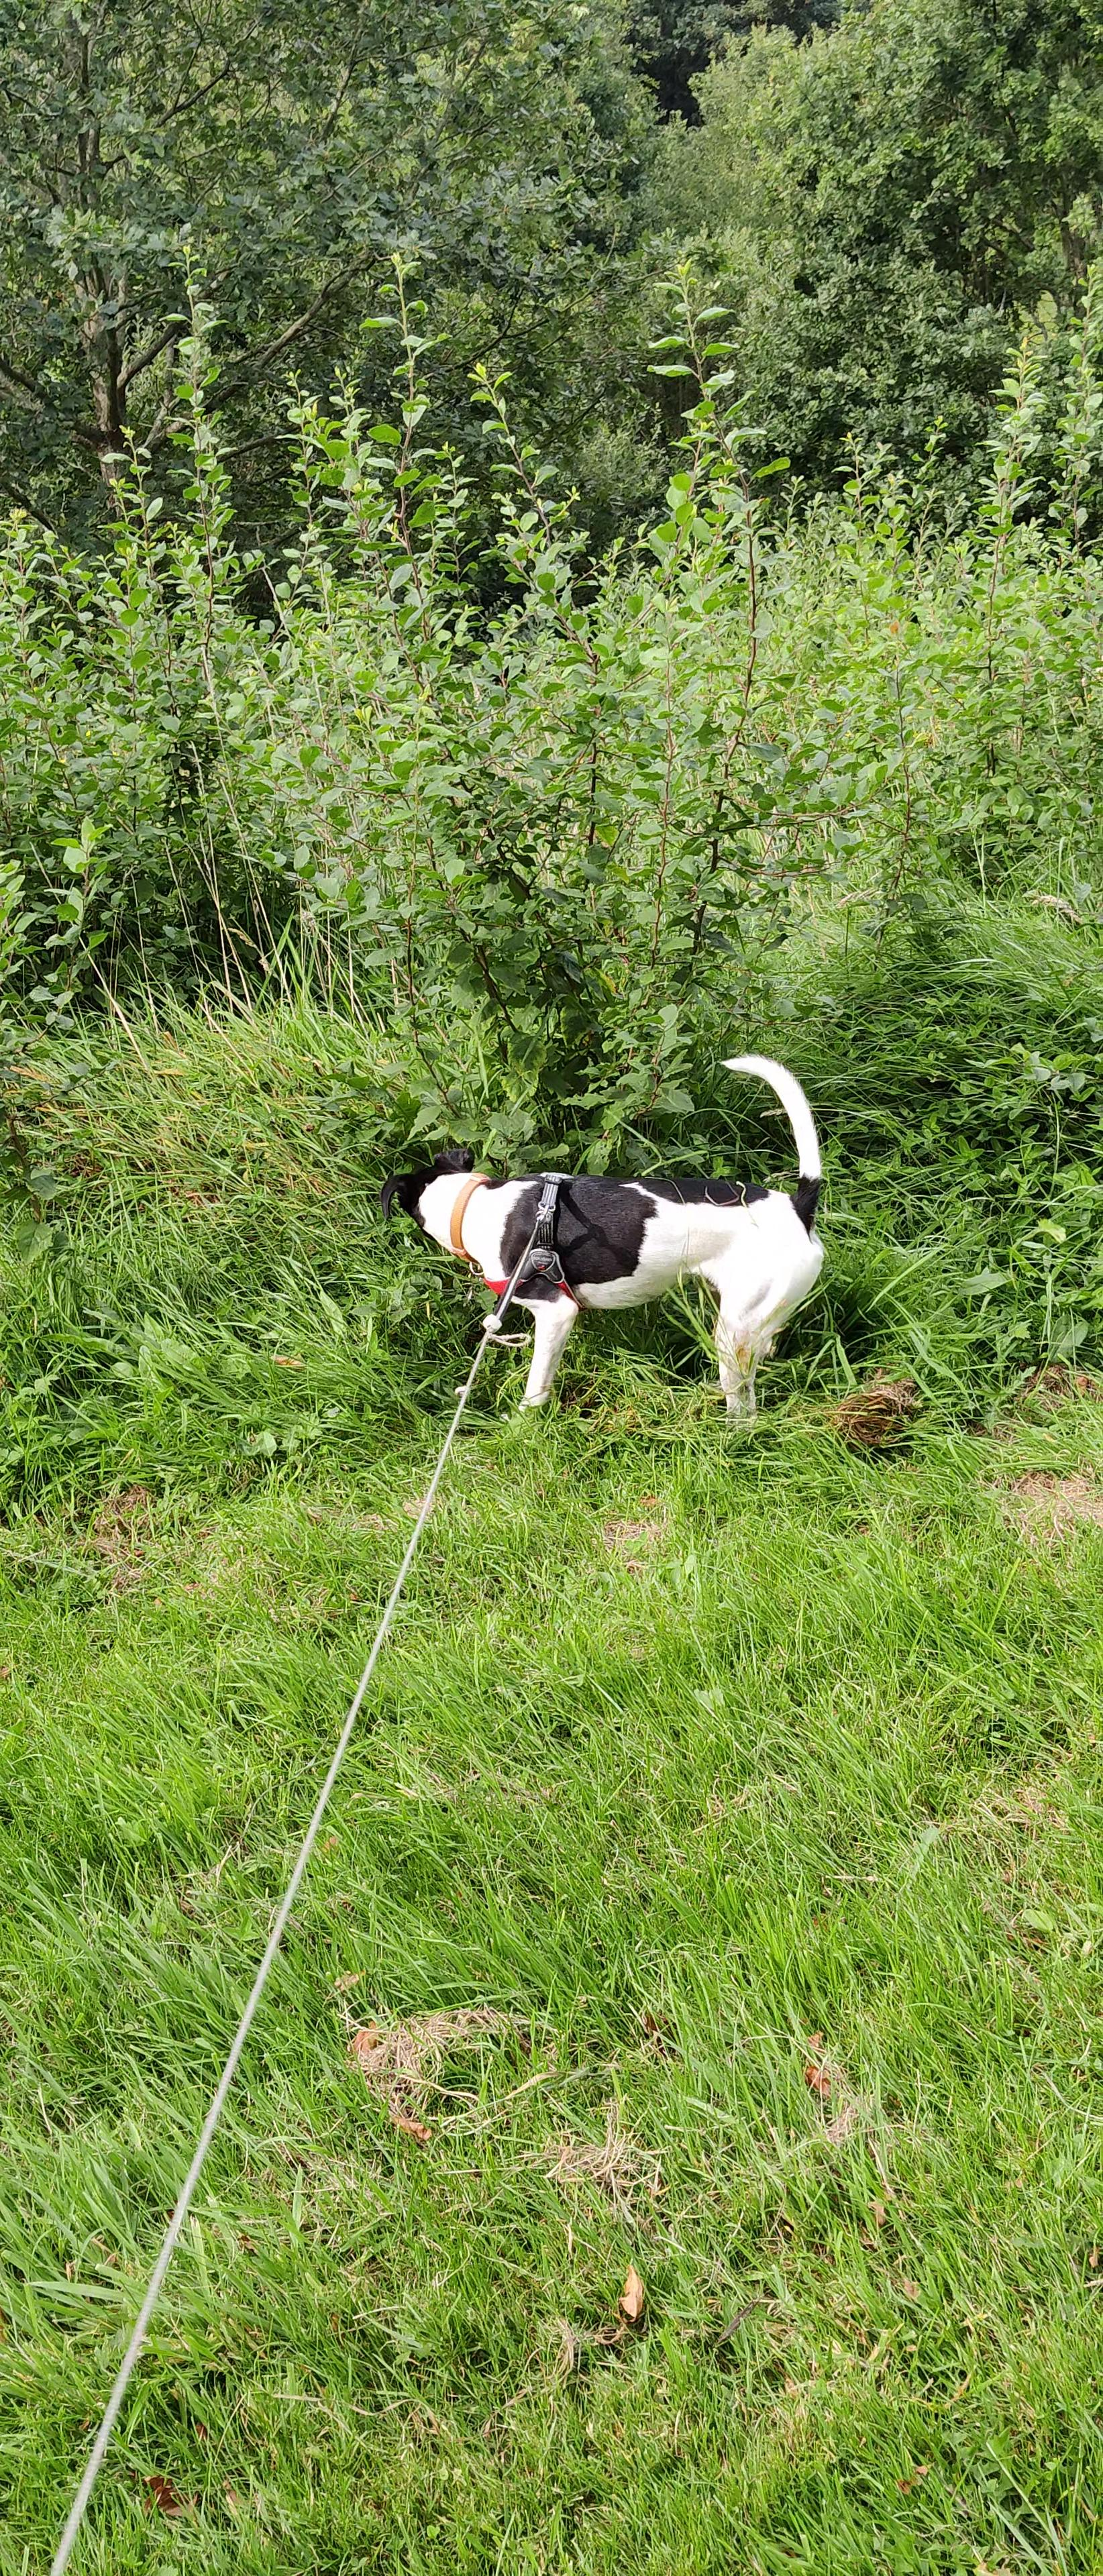Dog: (368, 1038, 840, 1431)
